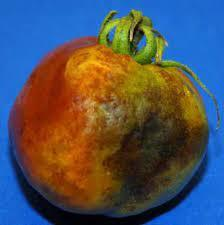tomato late blight: (9, 18, 210, 221)
